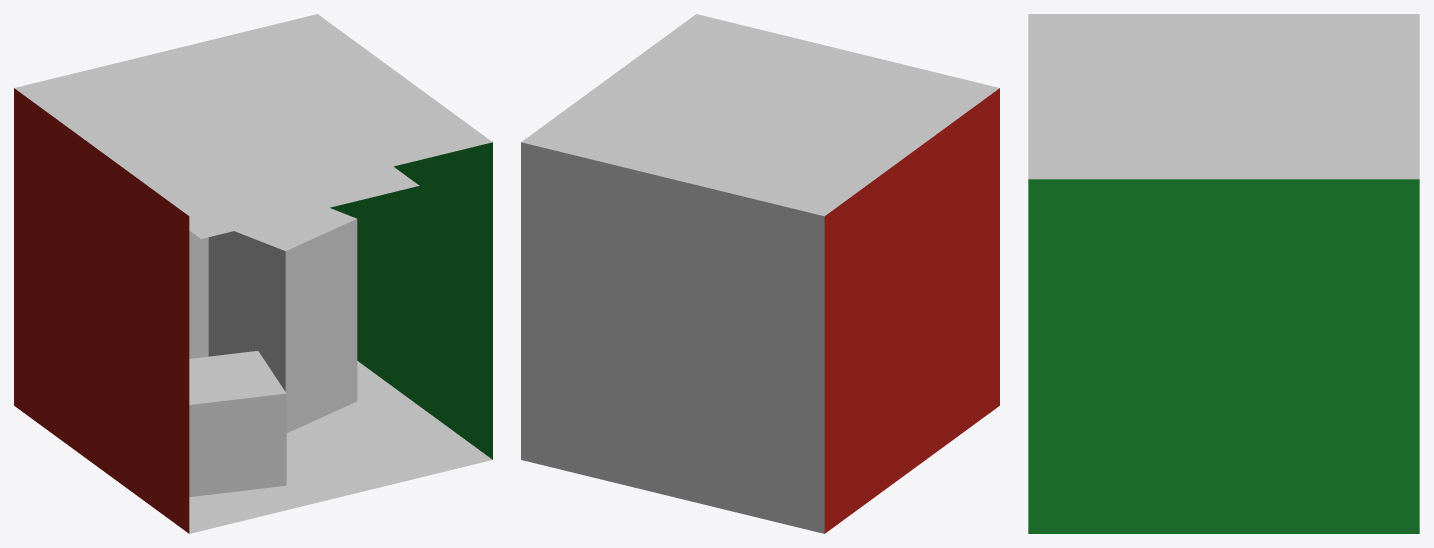
Rendered from CornellIndirect.glb.
3 views of the same model, side by side, from view 1: azimuth 30°, elevation 25°; view 2: azimuth 150°, elevation 25°; view 3: azimuth 270°, elevation 25° (orthographic). The views are drawn at different scales.
Bounding box in the file's own units: 2 × 2 × 2.
1 material, 1 textured.
